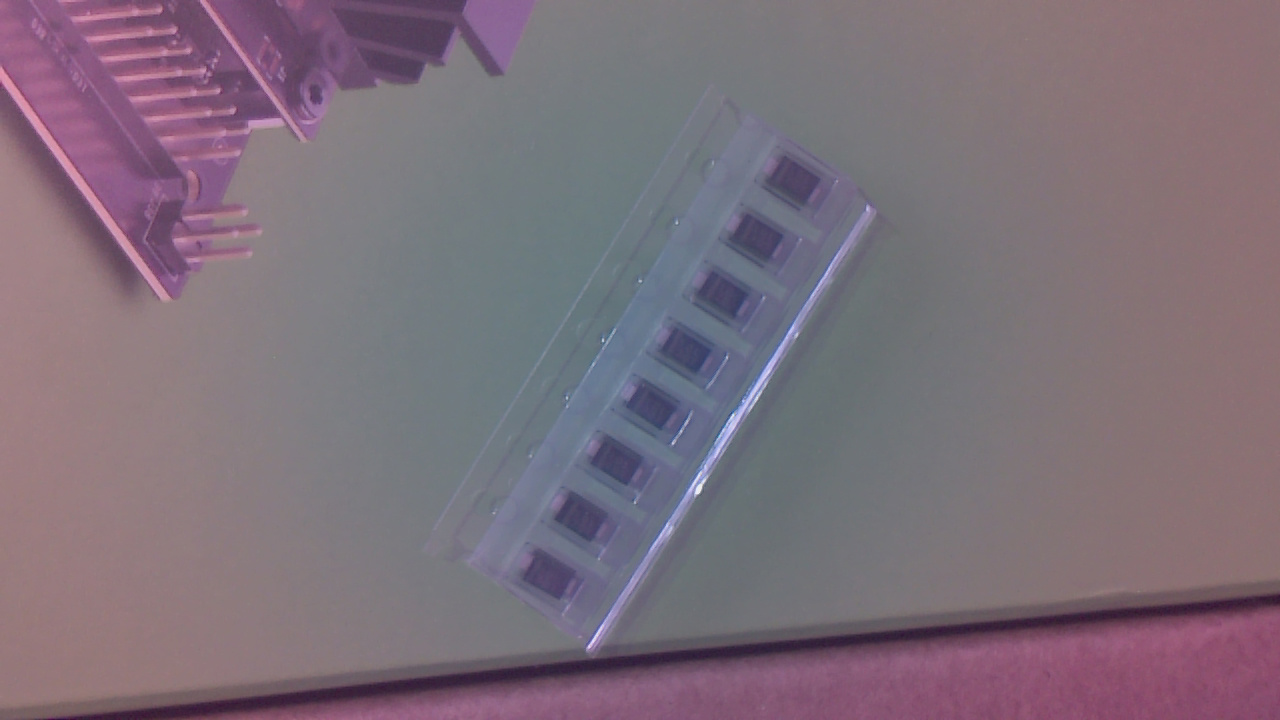Diode: (523, 546, 585, 612), (557, 489, 617, 557), (589, 434, 652, 497), (625, 378, 688, 441), (728, 212, 791, 275), (660, 325, 720, 389), (698, 269, 760, 330), (769, 155, 828, 216)
